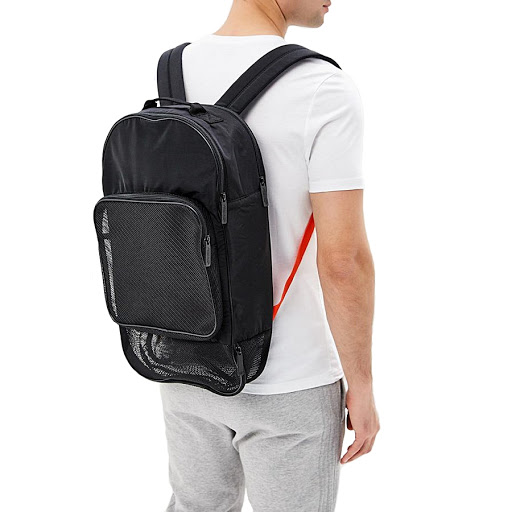backpack: (88, 86, 282, 402)
